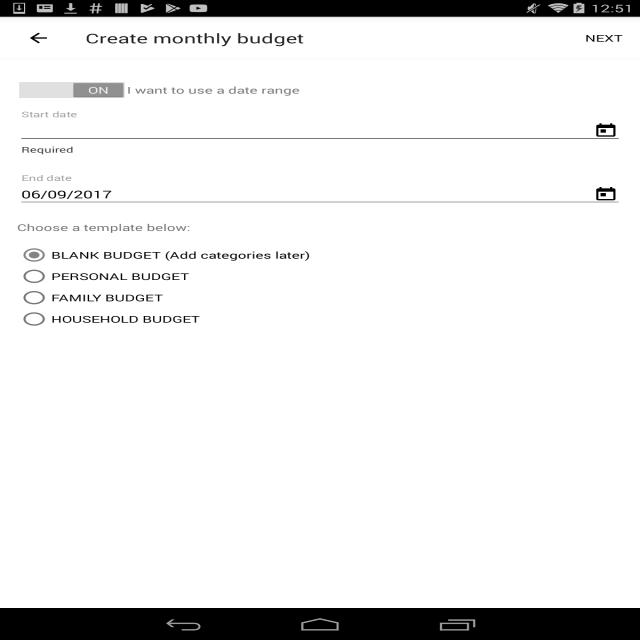EditText: (17, 117, 623, 144), (17, 181, 623, 208)
ImageButton: (9, 17, 68, 59)
RadioButton: (17, 244, 310, 266), (17, 308, 201, 330), (17, 266, 189, 287), (17, 287, 163, 308)
Switch: (17, 81, 127, 99)
TextView: (17, 221, 623, 234), (85, 29, 304, 47), (127, 84, 300, 96), (576, 22, 632, 54), (21, 144, 74, 155)
